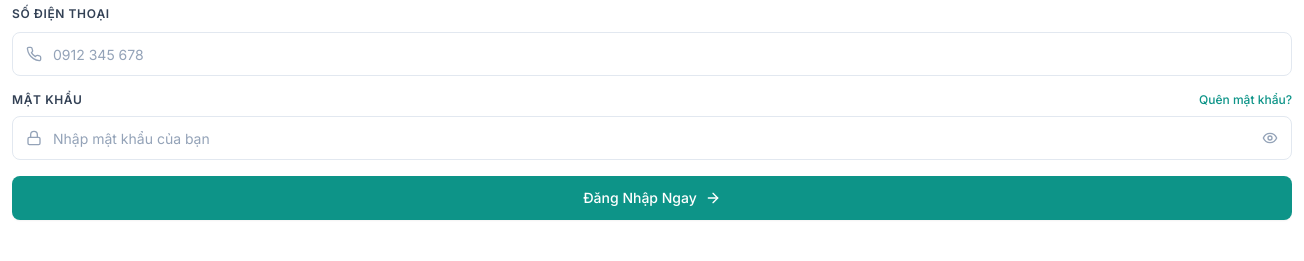
Test: LoginForm › displays validation error when password is shorter than 6 characters
Type "0912345678" into the field with placeholder "0912 345 678" at (652, 54), box top-left (12, 32), bottom-right (1292, 76)
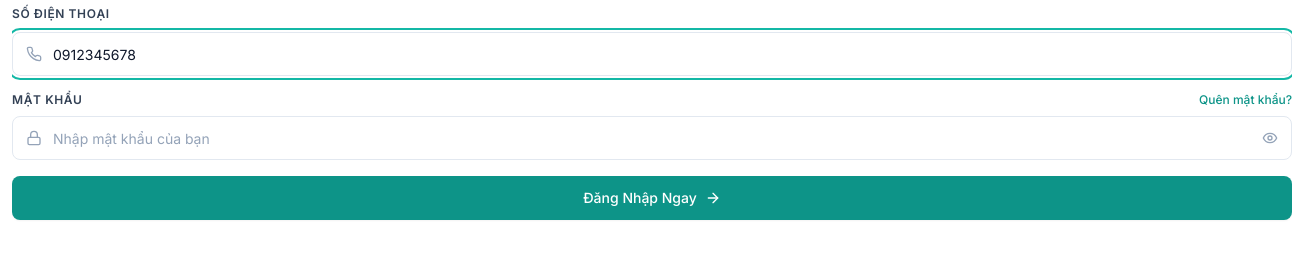
Type "12345" into the password field with placeholder "Nhập mật khẩu của bạn" at (652, 138), box top-left (12, 116), bottom-right (1292, 160)
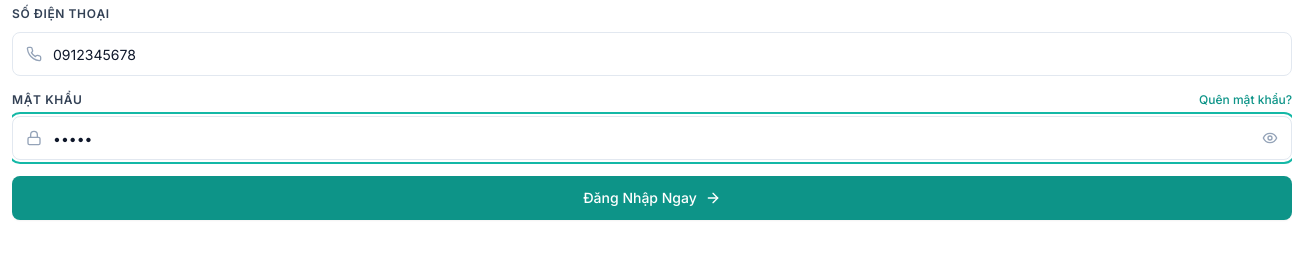
Click the button "Đăng Nhập Ngay" at (652, 198), box top-left (12, 176), bottom-right (1292, 220)
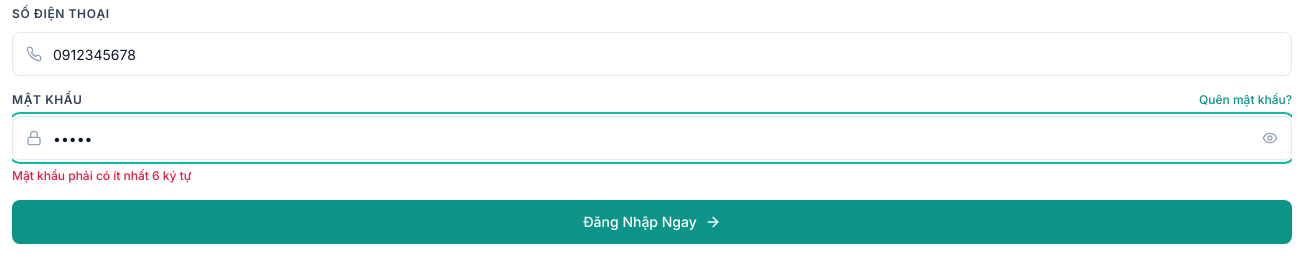
expect the text "Mật khẩu phải có ít nhất 6 ký tự" is shown: met, box top-left (12, 168), bottom-right (191, 183)
